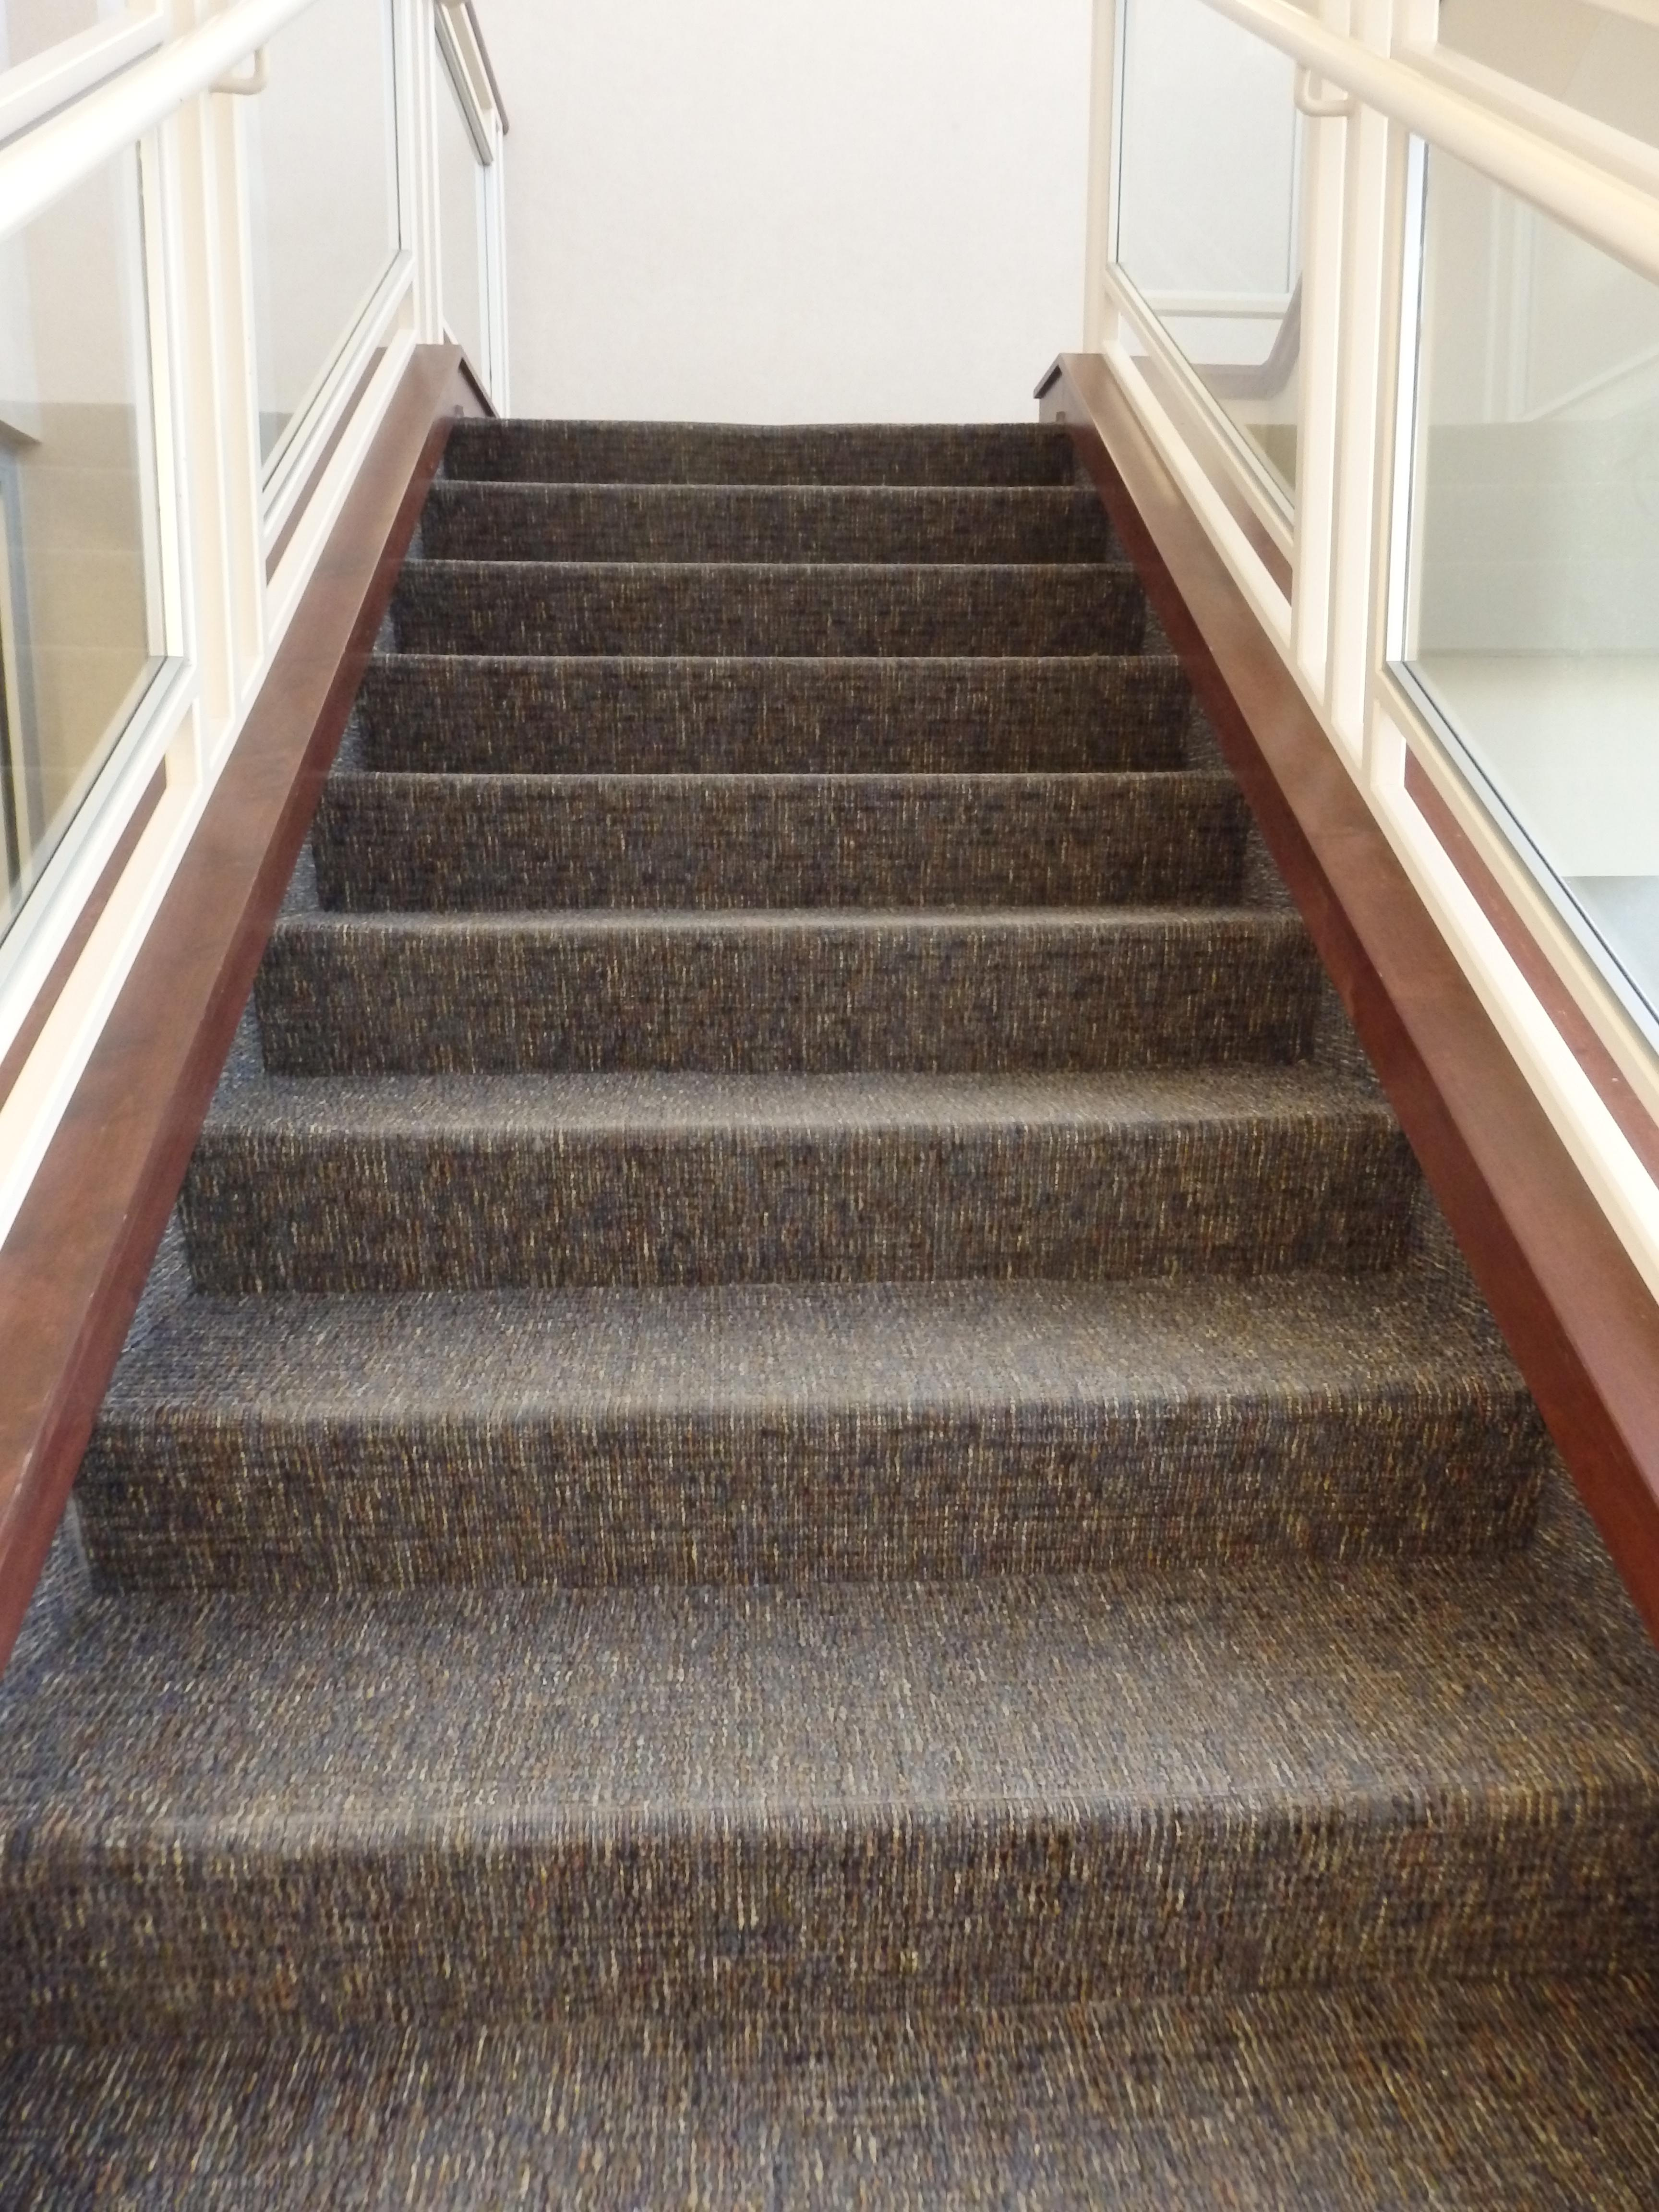stairs_up: (185, 334, 1480, 2013)
